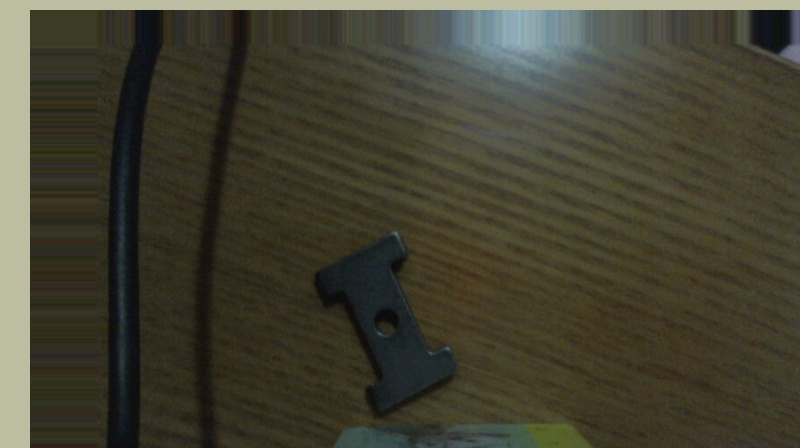O002: (310, 226, 457, 414)
